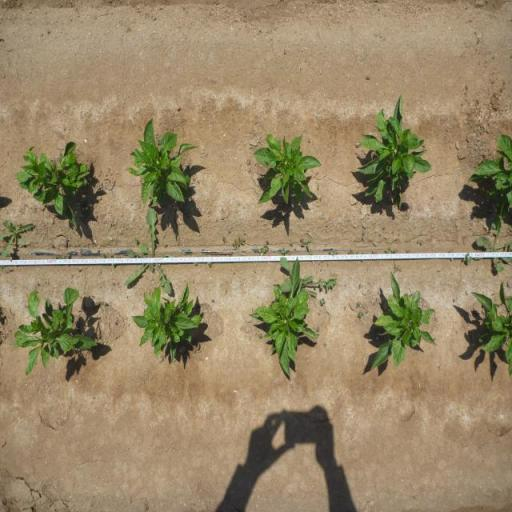plant: (355, 91, 432, 210), (247, 257, 321, 380), (12, 285, 96, 378), (369, 272, 437, 372), (125, 116, 200, 206), (15, 139, 92, 224), (130, 284, 202, 365), (252, 130, 323, 208), (468, 280, 512, 378), (462, 132, 512, 216)
weed: (122, 207, 175, 287), (472, 215, 512, 273), (297, 257, 342, 300), (0, 218, 36, 258), (278, 256, 297, 294), (232, 235, 246, 251), (300, 238, 313, 255), (101, 253, 115, 266), (260, 240, 270, 256), (52, 253, 70, 259), (385, 246, 398, 253), (462, 253, 472, 262), (448, 248, 454, 262), (394, 264, 403, 272), (328, 249, 339, 255), (319, 297, 326, 306), (280, 246, 286, 256), (357, 311, 364, 319), (347, 248, 356, 254), (221, 236, 227, 244), (356, 301, 362, 308), (405, 248, 412, 254), (417, 239, 423, 245), (4, 268, 10, 273), (210, 298, 216, 303), (102, 300, 107, 306), (134, 237, 138, 244), (0, 265, 6, 269), (372, 250, 378, 254), (316, 326, 320, 332), (193, 262, 198, 266), (207, 262, 212, 266), (323, 342, 327, 347), (362, 230, 364, 240), (288, 250, 291, 256), (77, 268, 81, 272), (290, 238, 292, 246), (366, 310, 368, 314), (164, 244, 167, 246), (318, 262, 320, 265), (316, 270, 318, 273), (327, 262, 328, 268), (398, 233, 400, 236), (50, 244, 52, 246)
